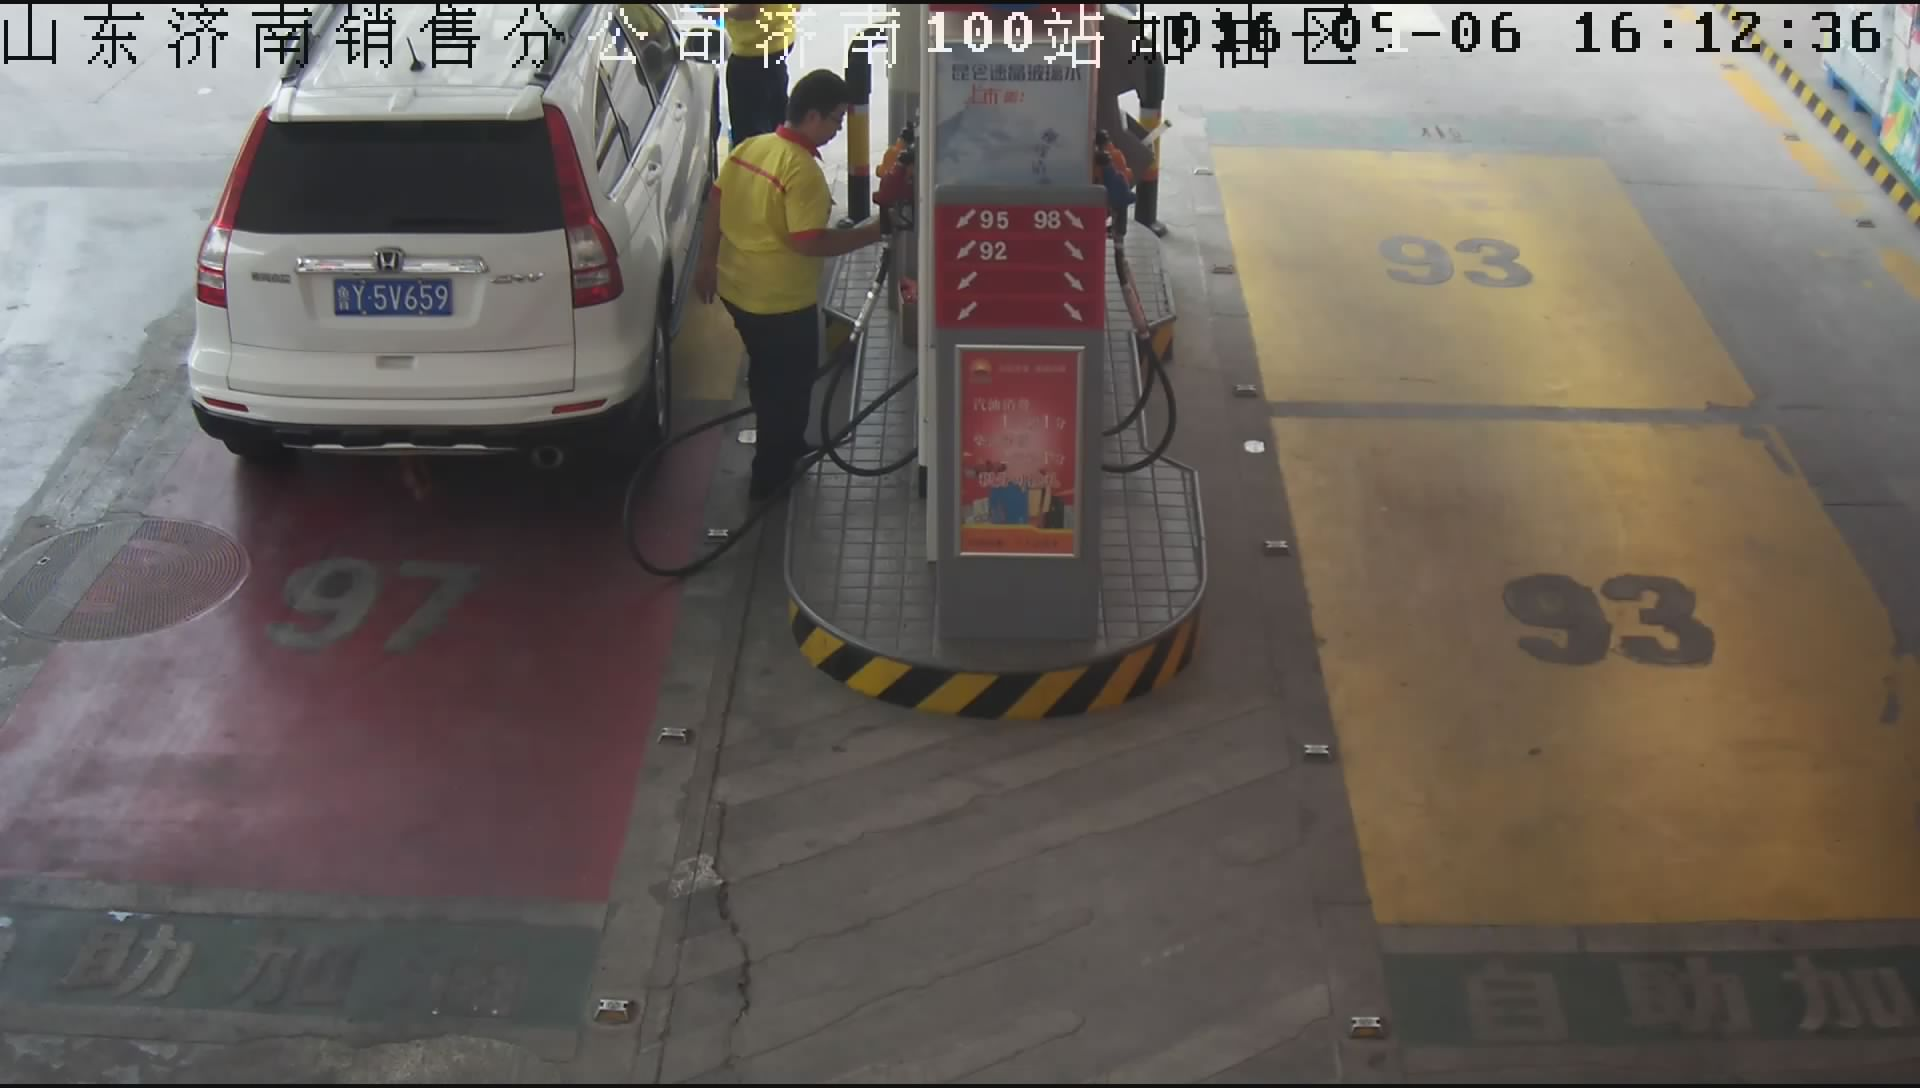blue: (334, 280, 456, 320)
